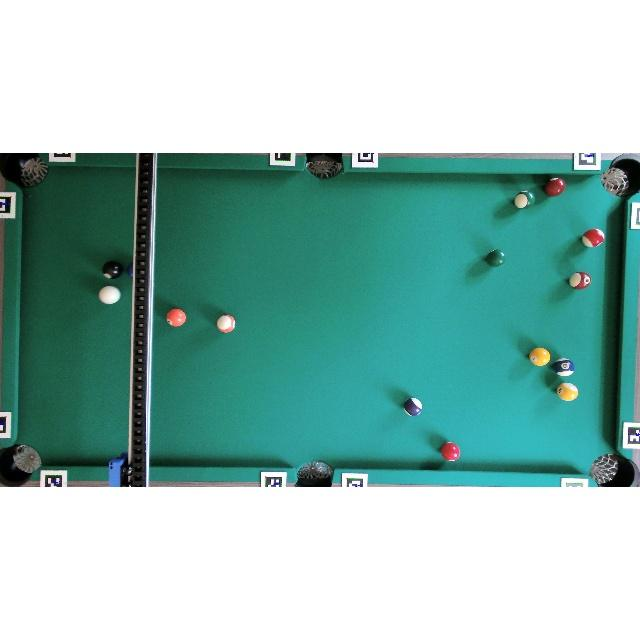cue ball: (98, 284, 121, 304)
other: (582, 228, 604, 248), (544, 176, 566, 196), (552, 358, 575, 377), (440, 441, 461, 461), (403, 397, 423, 417), (166, 308, 186, 328), (102, 260, 122, 280), (529, 348, 550, 367), (570, 272, 592, 290), (556, 383, 578, 401), (514, 190, 534, 209), (217, 315, 236, 333), (486, 248, 505, 266)
